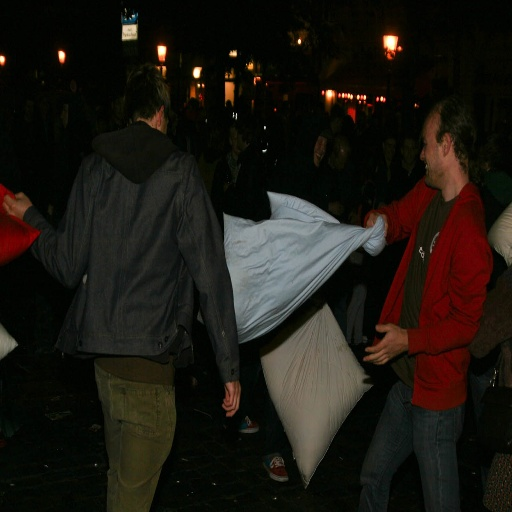hand: (364, 324, 404, 365), (2, 190, 32, 218), (221, 382, 242, 417), (364, 210, 389, 238)
